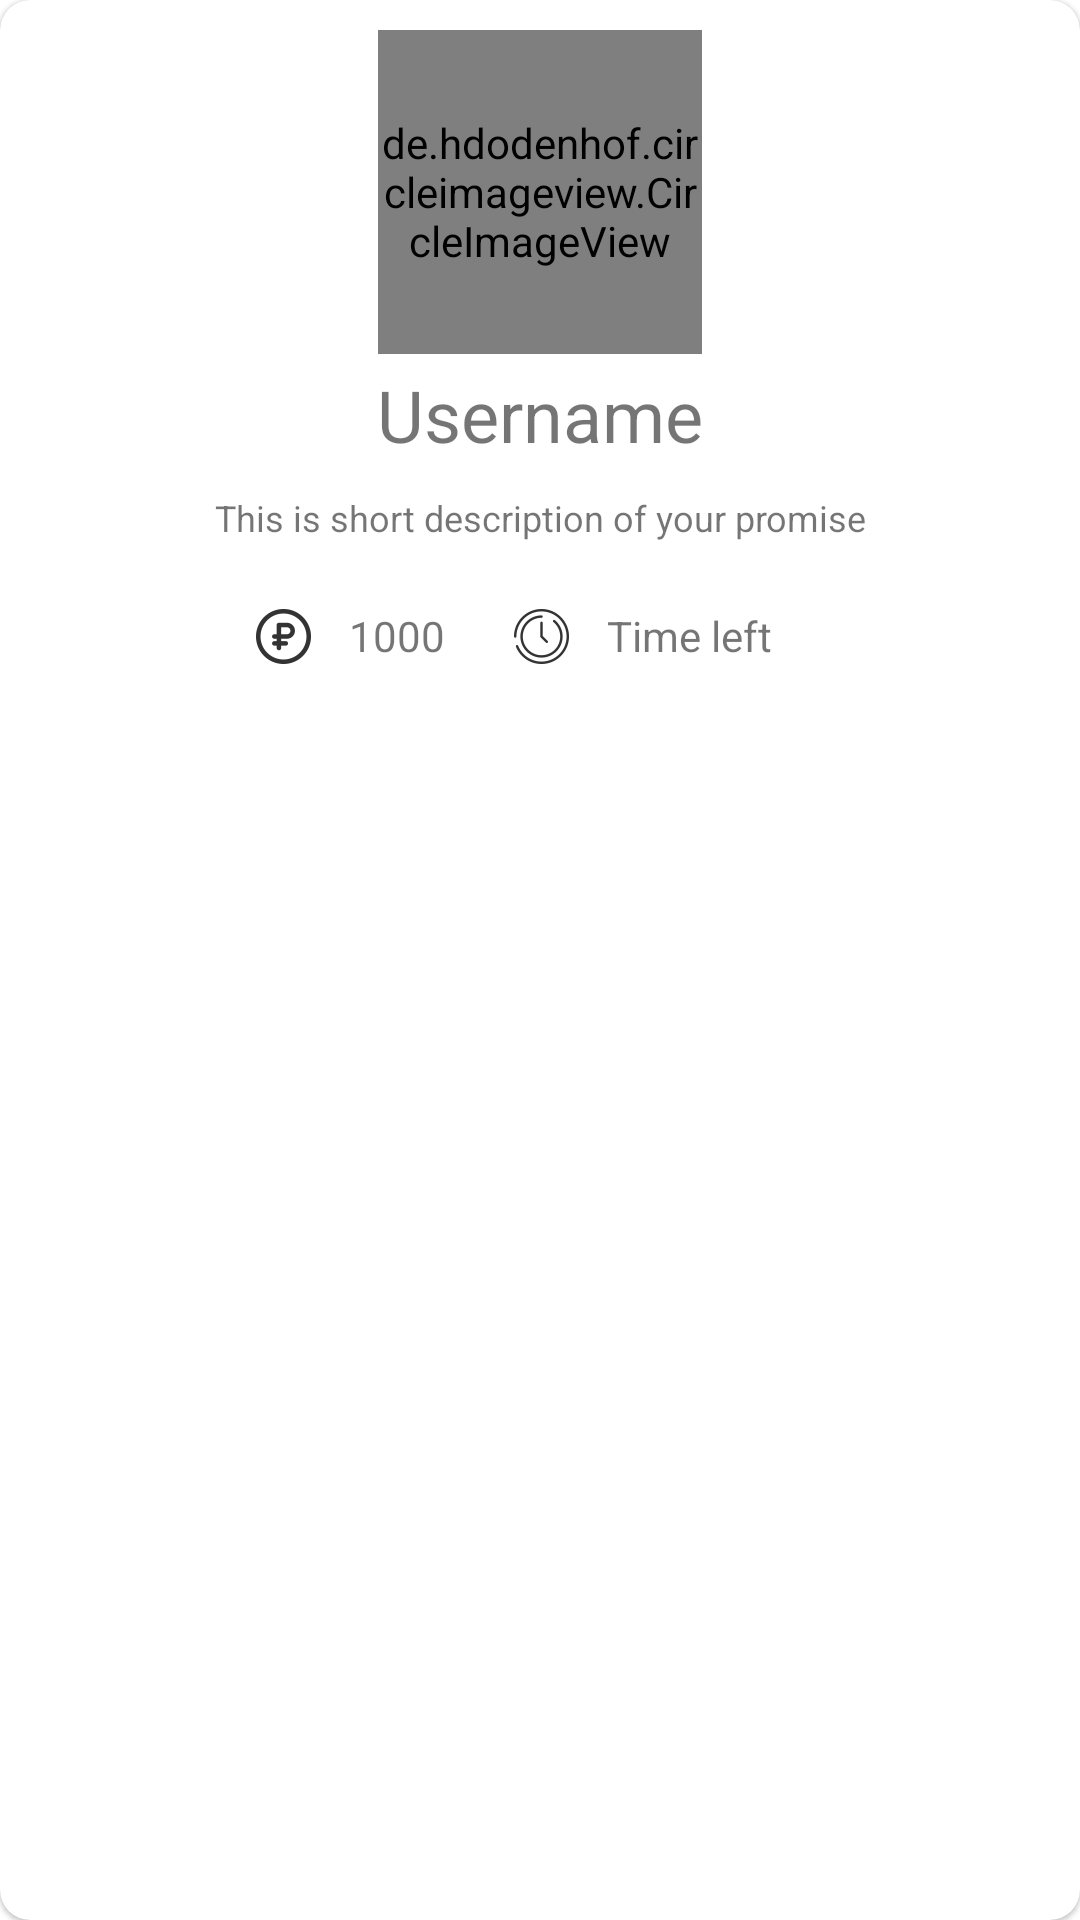

Where to tap for icons on this 1080 × 1920 app screen, as (x=x, y=y):
ruble: (x=283, y=636)
